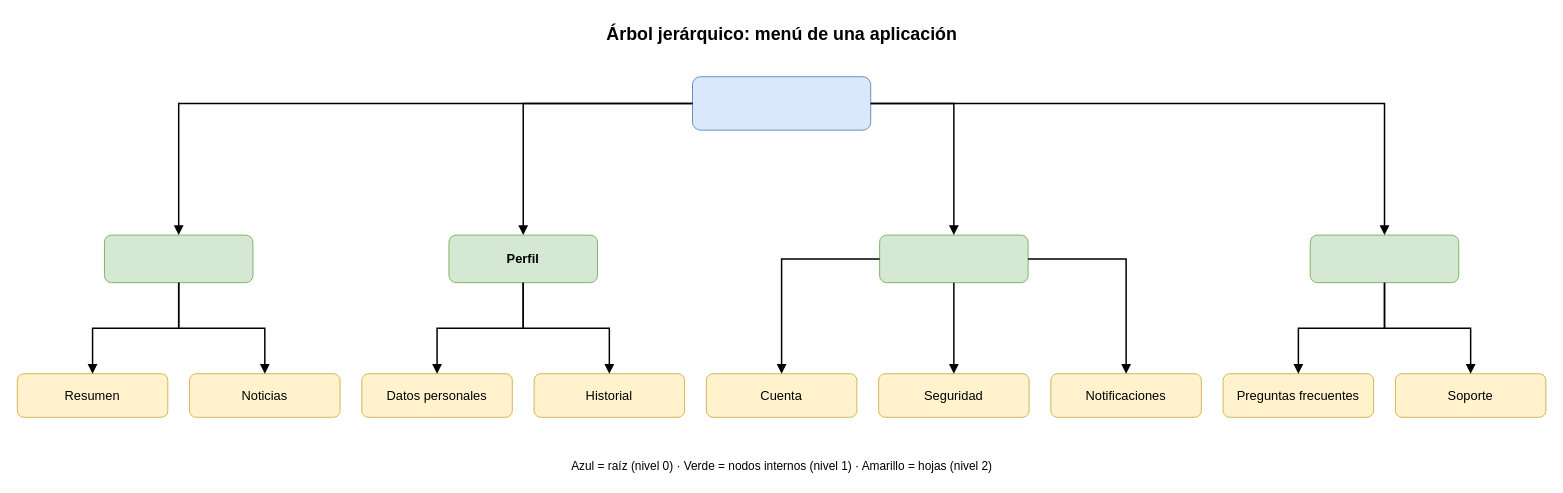
This 1563x493 diagram has some shape labels left out. Each missing label, with the centre of its shape:
"Ayuda" goes at point (1384, 258).
"Configuración" goes at point (953, 258).
"Inicio" goes at point (178, 258).
"Menú principal" goes at point (781, 103).
